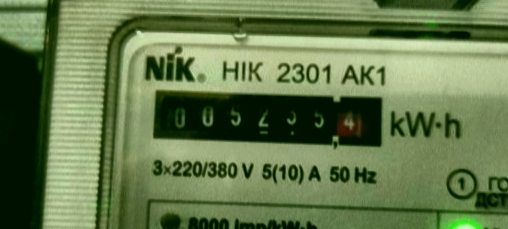0: (171, 102, 187, 128), (199, 102, 215, 127)
2: (254, 101, 271, 128)
3: (281, 100, 300, 125)
4: (339, 103, 358, 133)
5: (309, 100, 327, 129), (227, 101, 242, 126)
screen: (139, 73, 392, 159)
